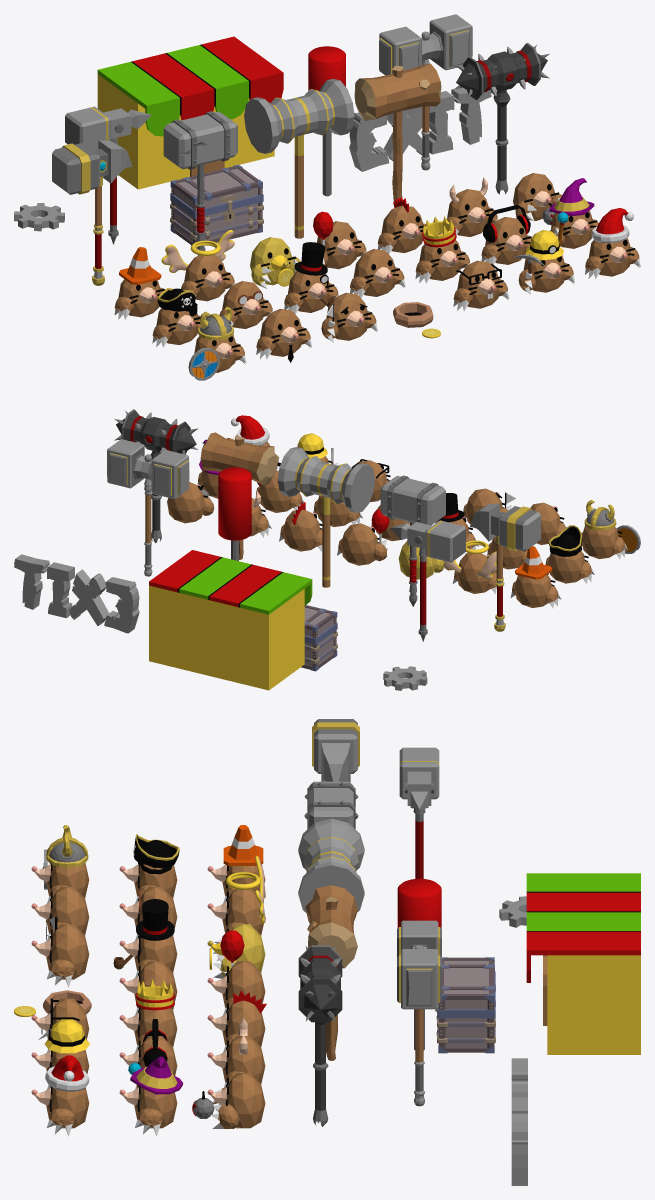
The model's file is HitTheMole.fbx.
3 renders of one model, top to bottom at view 1: azimuth 30°, elevation 25°; view 2: azimuth 150°, elevation 25°; view 3: azimuth 270°, elevation 25°, orthographic. The views are drawn at different scales.
Visible parts, largest first — view 1: market_place, Cilindro.007, Cilindro.021, Cilindro.019, Cilindro.027, Cubo, Cubo.017, Cubo.015, Plano.002, Cubo.034, Cilindro.013, Cubo.061 (+45 smaller); view 2: market_place, Cilindro.007, Cilindro.021, Cilindro.019, Cubo, Cilindro.013, Cilindro.027, Cubo.017, Cubo.015, Plano.002, Plano.003, Body.011 (+29 smaller); view 3: market_place, Cilindro.007, Cilindro.021, Cilindro.027, Cilindro.019, Cubo, Cubo.015, Cilindro.013, Cubo.061, Body.018, Body.002, Cubo.017 (+29 smaller).
Boxes of the visible parts, bbox=[...] form: market_place: bbox=[97, 36, 283, 189]; Cilindro.007: bbox=[244, 78, 354, 153]; Cilindro.021: bbox=[379, 14, 472, 75]; Cilindro.019: bbox=[354, 63, 441, 120]; Cilindro.027: bbox=[454, 43, 549, 100]; Cubo: bbox=[52, 140, 132, 194]; Cubo.017: bbox=[163, 111, 237, 169]; Cubo.015: bbox=[65, 106, 151, 150]; Plano.002: bbox=[349, 112, 388, 171]; Cubo.034: bbox=[171, 201, 262, 244]; Cilindro.013: bbox=[308, 46, 345, 90]; Cubo.061: bbox=[175, 168, 257, 208]; market_place: bbox=[149, 550, 312, 690]; Cilindro.007: bbox=[277, 447, 374, 512]; Cilindro.021: bbox=[107, 439, 189, 499]; Cilindro.019: bbox=[200, 432, 279, 485]; Cubo: bbox=[470, 503, 540, 551]; Cilindro.013: bbox=[218, 467, 251, 540]; Cilindro.027: bbox=[114, 409, 198, 454]; Cubo.017: bbox=[380, 475, 445, 525]; Cubo.015: bbox=[389, 520, 465, 562]; Plano.002: bbox=[104, 577, 139, 633]; Plano.003: bbox=[69, 569, 108, 625]; Body.011: bbox=[340, 523, 377, 565]; market_place: bbox=[526, 873, 640, 1054]; Cilindro.007: bbox=[298, 818, 364, 912]; Cilindro.021: bbox=[397, 920, 441, 1009]; Cilindro.027: bbox=[298, 945, 342, 1022]; Cilindro.019: bbox=[305, 885, 357, 968]; Cubo: bbox=[312, 719, 359, 782]; Cubo.015: bbox=[399, 747, 439, 809]; Cilindro.013: bbox=[397, 878, 441, 928]; Cubo.061: bbox=[444, 960, 488, 1009]; Body.018: bbox=[225, 1073, 265, 1128]; Body.002: bbox=[46, 924, 89, 979]; Cubo.017: bbox=[309, 781, 353, 827].
Bounding box in the file's own units: 3090 × 1032 × 2848.
1 material, 1 textured.
